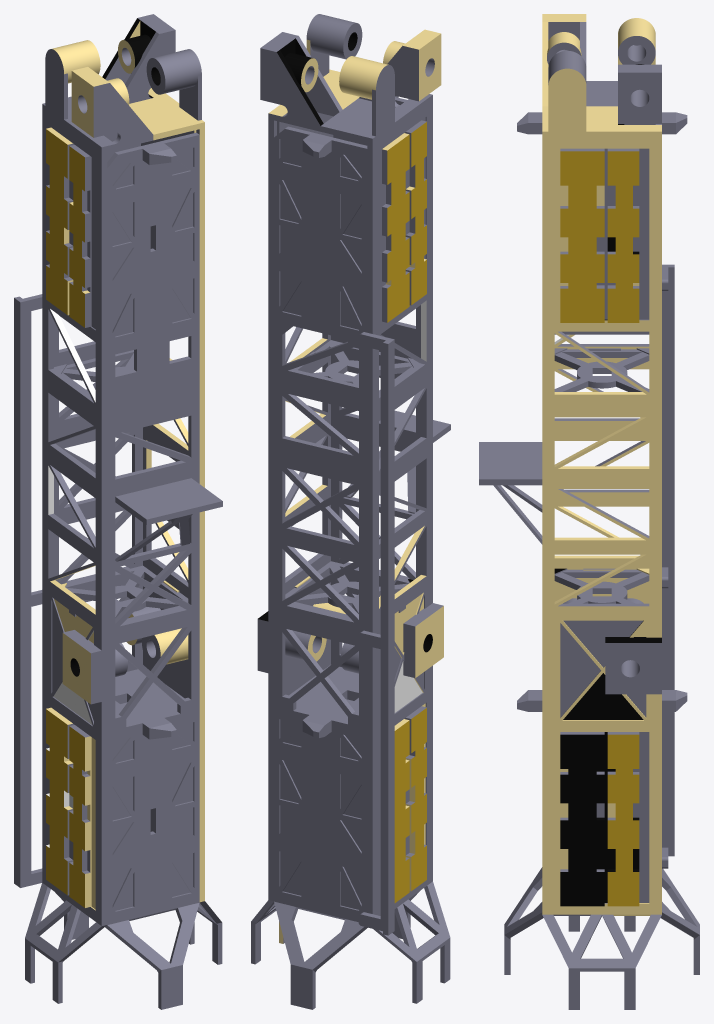
The model's file is jia_6.FBX.
3 views of the same model, side by side, from view 1: azimuth 30°, elevation 25°; view 2: azimuth 150°, elevation 25°; view 3: azimuth 270°, elevation 25° (orthographic).
Visible parts, largest first — view 1: Subensamble N52 ISS-1/Subensamble N51 ISS-1/Subensamble N48  (×6); view 2: Subensamble N52 ISS-1/Subensamble N51 ISS-1/Subensamble N48  (×6); view 3: Subensamble N52 ISS-1/Subensamble N51 ISS-1/Subensamble N48  (×6).
Part boxes in pixels (box(x1,y1,x2,y2)): Subensamble N52 ISS-1/Subensamble N51 ISS-1/Subensamble N48  (×6): box(14, 14, 222, 1009); Subensamble N52 ISS-1/Subensamble N51 ISS-1/Subensamble N48  (×6): box(251, 14, 450, 1009); Subensamble N52 ISS-1/Subensamble N51 ISS-1/Subensamble N48  (×6): box(479, 14, 699, 1009).
Size of the model in its own units: 302 by 1620 by 350.
